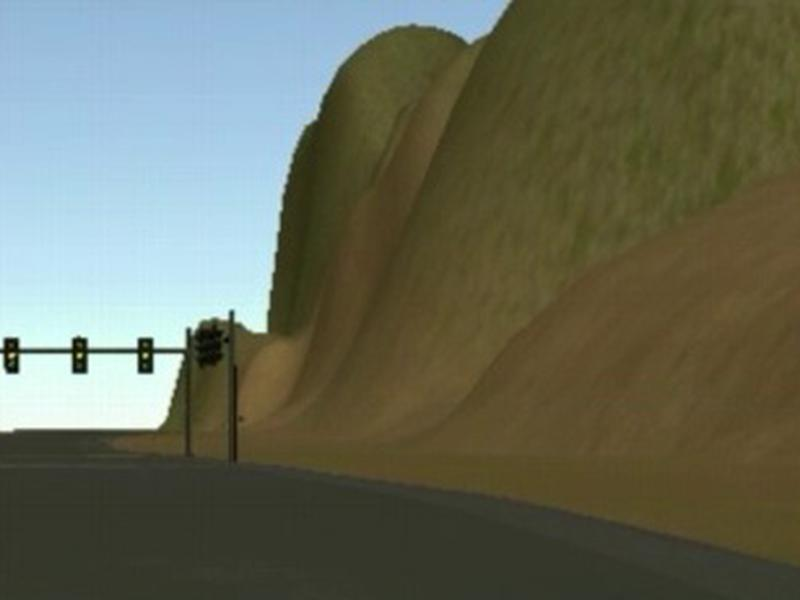Yellow: (137, 336, 155, 373), (72, 338, 89, 373), (4, 338, 19, 374)
